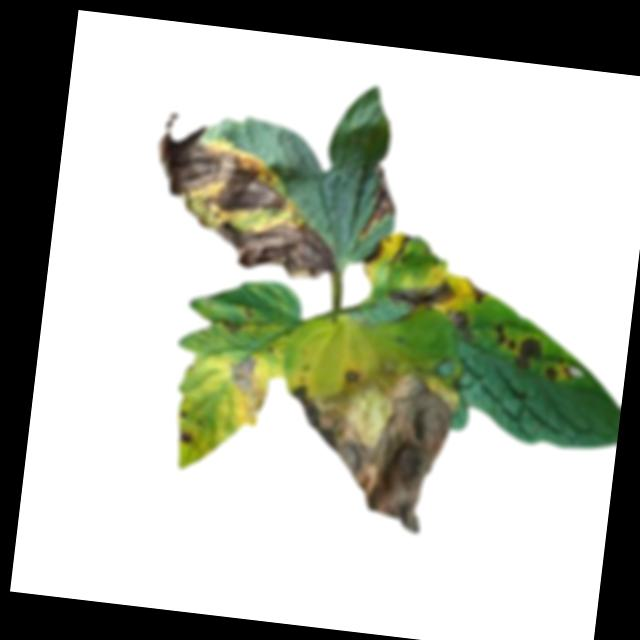Early_blight: (269, 351, 464, 538), (152, 109, 312, 216), (182, 203, 341, 285), (223, 350, 269, 422), (385, 273, 456, 315), (364, 164, 401, 235), (445, 308, 482, 342), (513, 334, 544, 370), (363, 232, 393, 268), (541, 358, 575, 383), (463, 277, 493, 305), (490, 322, 517, 351), (217, 314, 246, 334), (177, 426, 198, 447)
